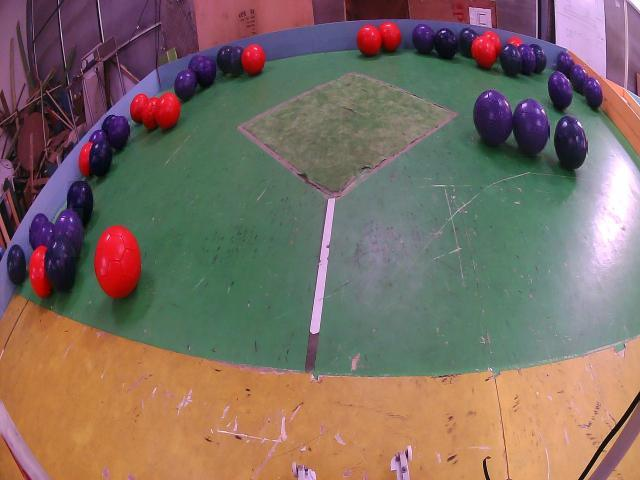jambhalya: (474, 90, 513, 145), (514, 100, 549, 156), (54, 208, 83, 257), (30, 214, 55, 250), (548, 72, 572, 109), (107, 117, 129, 149), (175, 70, 197, 100), (195, 56, 216, 87), (30, 214, 48, 250), (413, 24, 435, 53), (518, 44, 537, 75), (584, 77, 602, 109), (571, 65, 587, 93), (557, 52, 573, 79), (101, 115, 115, 136), (188, 55, 203, 71), (89, 130, 106, 143)
kaalyya: (45, 235, 77, 291), (555, 115, 587, 170), (67, 181, 94, 226), (90, 140, 113, 176), (7, 245, 27, 285), (500, 43, 523, 77), (435, 29, 458, 59), (458, 28, 478, 57), (226, 46, 244, 76), (217, 46, 232, 74), (532, 44, 546, 72)
